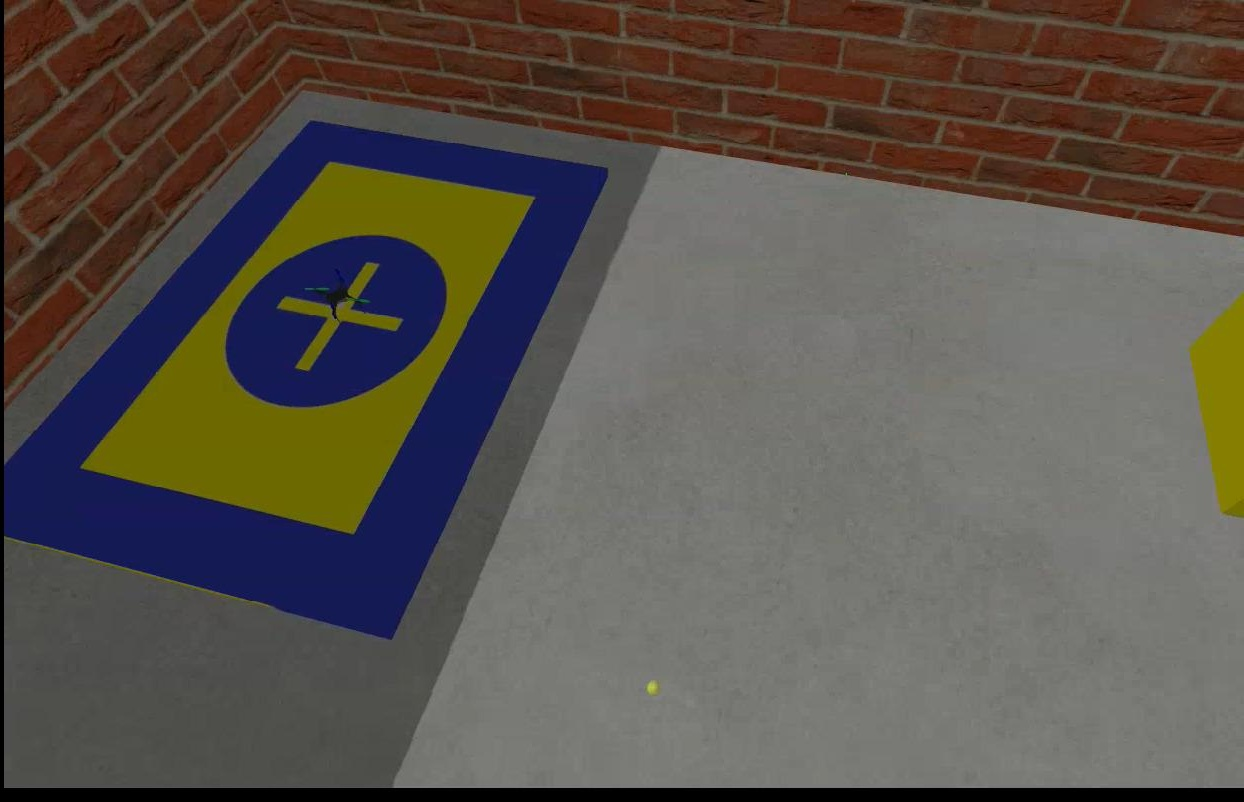large_base: (7, 118, 612, 643)
